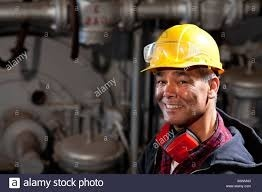helmet: (141, 24, 224, 74)
person with partial safety: (138, 22, 259, 174)
